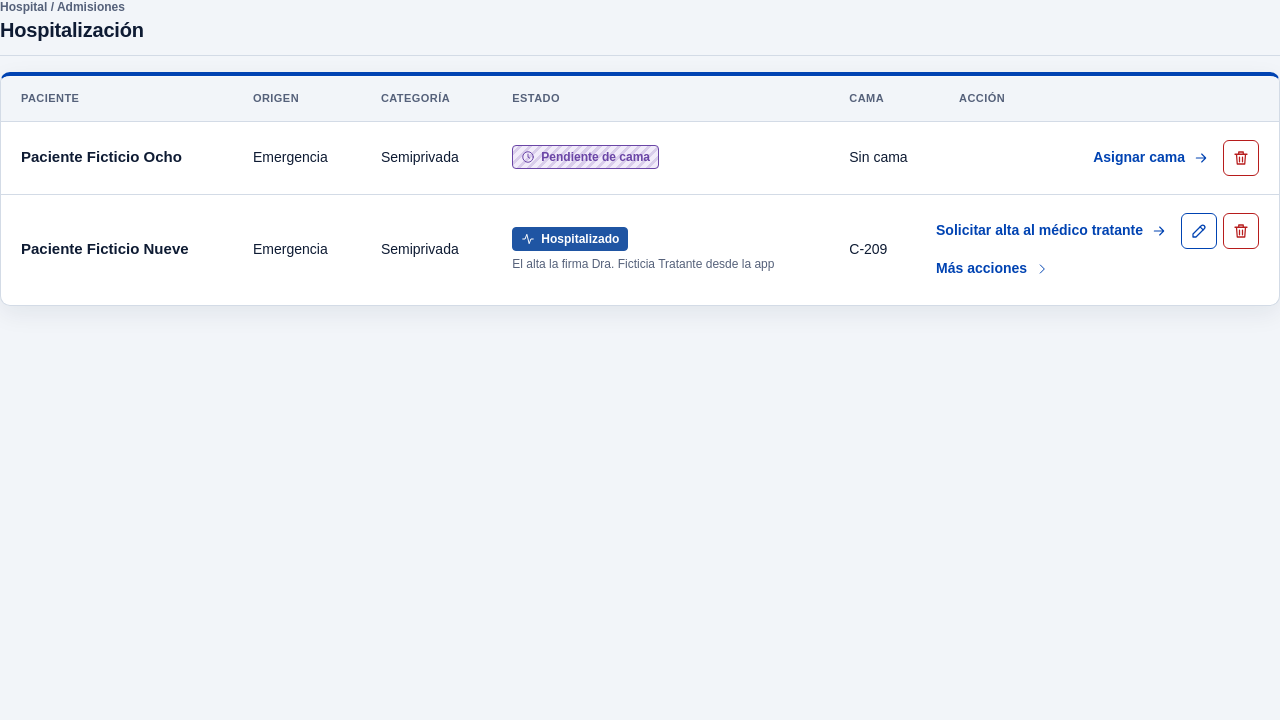
Test: W13 · admisiones con acciones según allowedActions (D-02) › obs. 21: una acción principal por fila; reasignar es el lápiz azul y cancelar o anular la papelera roja
Expected: the button with class "row-action" reads "Solicitar alta al médico tratante", [932,213,1171,249]
Expected: the button "Trasladar" is not shown
Click the button "Más acciones".
click(993, 269)  # box [932,251,1053,287]
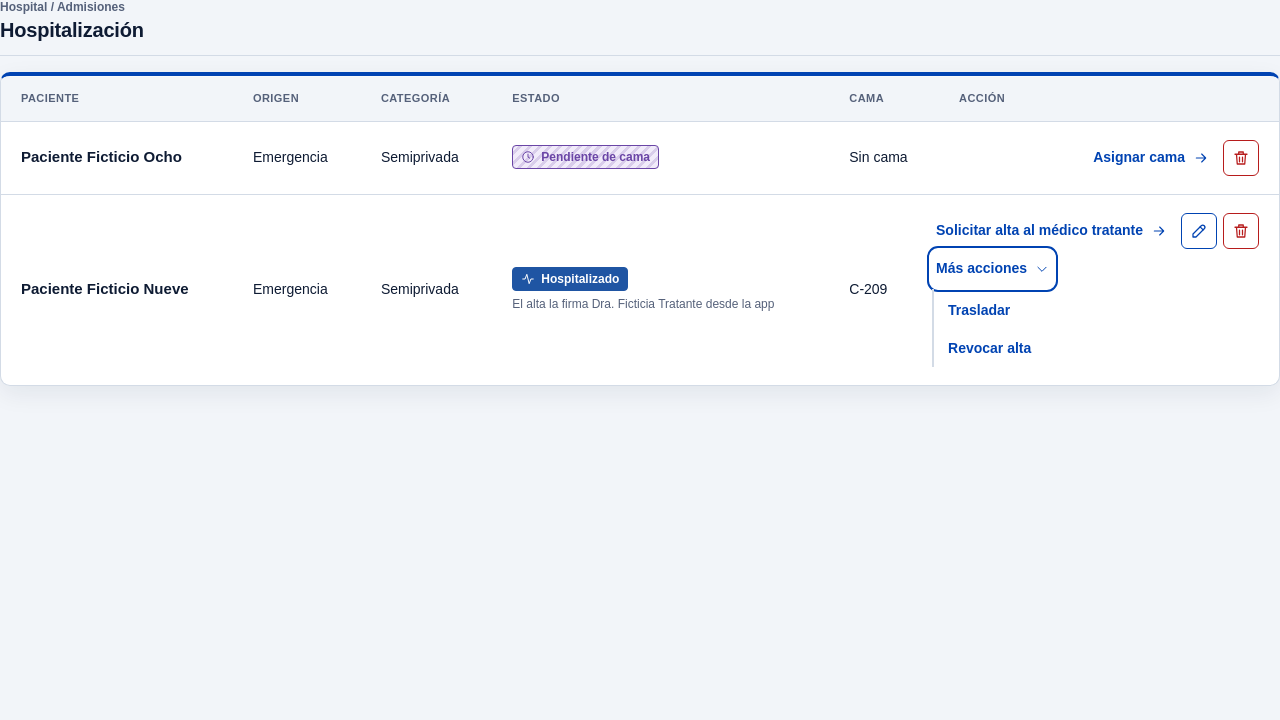
Expected: the button "Trasladar" is shown, [944,293,1014,329]
Expected: the button "Revocar alta" is shown, [944,331,1035,367]
Click the button named "Anular ingreso por error".
click(1241, 231)  # box [1223,213,1259,249]
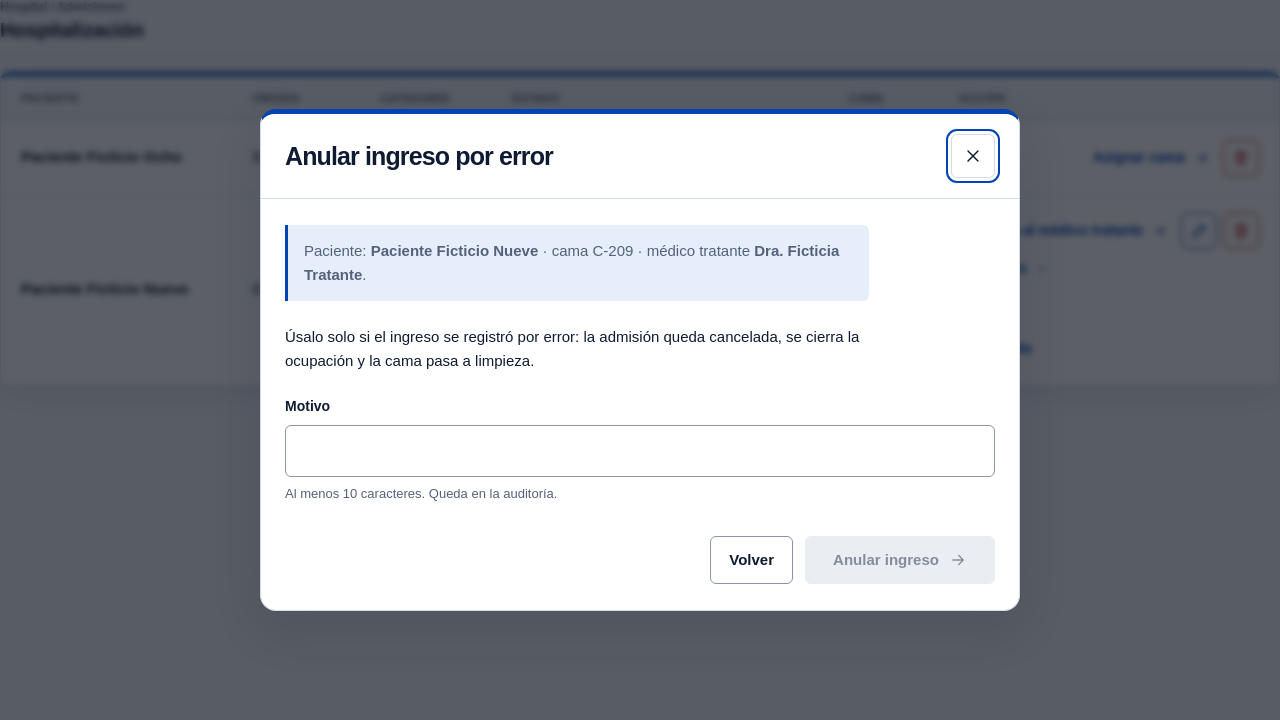
Expected: the dialog "Anular ingreso por error" is shown, [260,109,1020,611]
